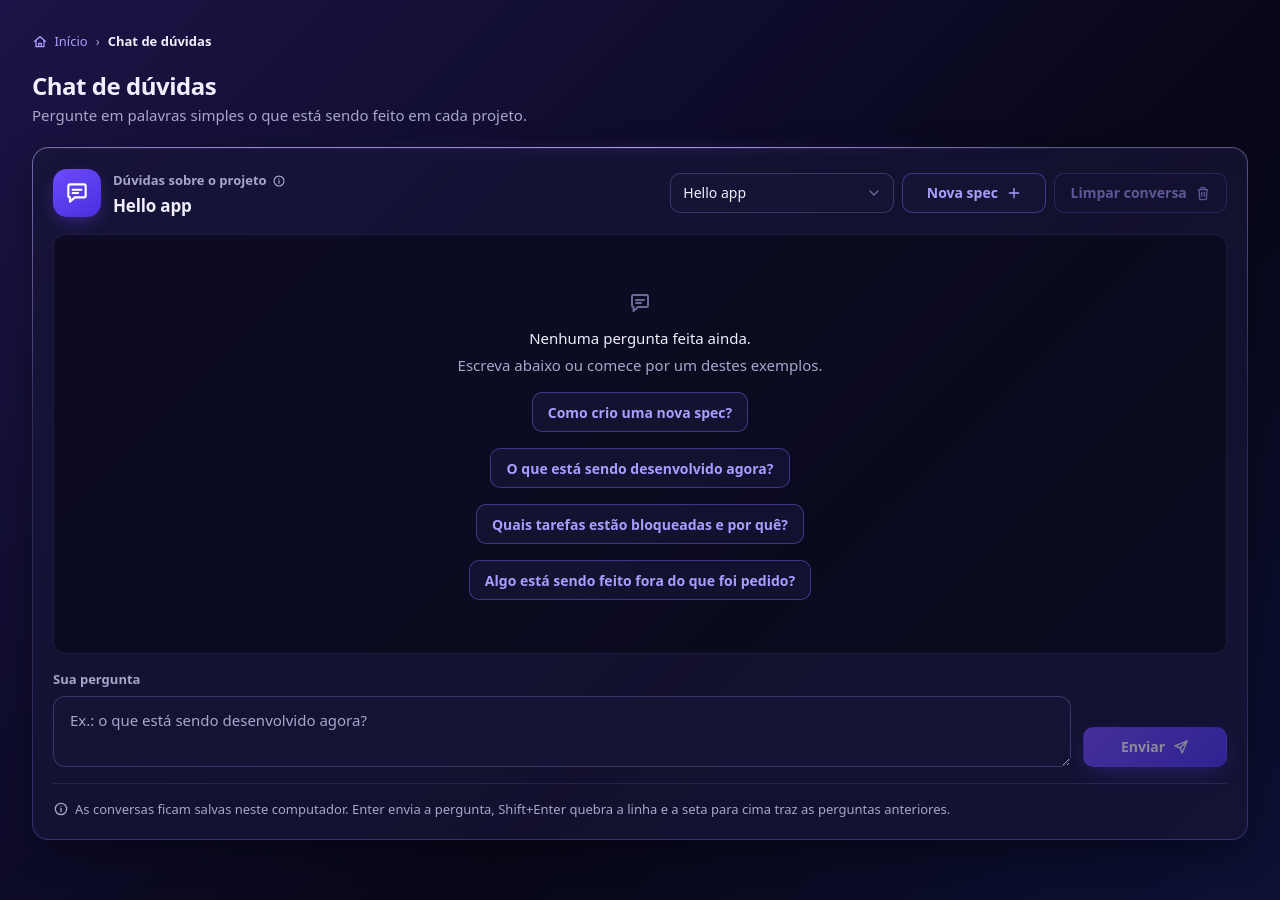
Scenario: ChatPage › keeps the typed text, explains the failure in a popup and sends again on request
Expected: the text "Nenhuma pergunta feita ainda." is shown, [529,327,751,350]
Step 1. Type "oi" into the text box with test id "chat-input" → (562, 731), box [53,696,1071,767]
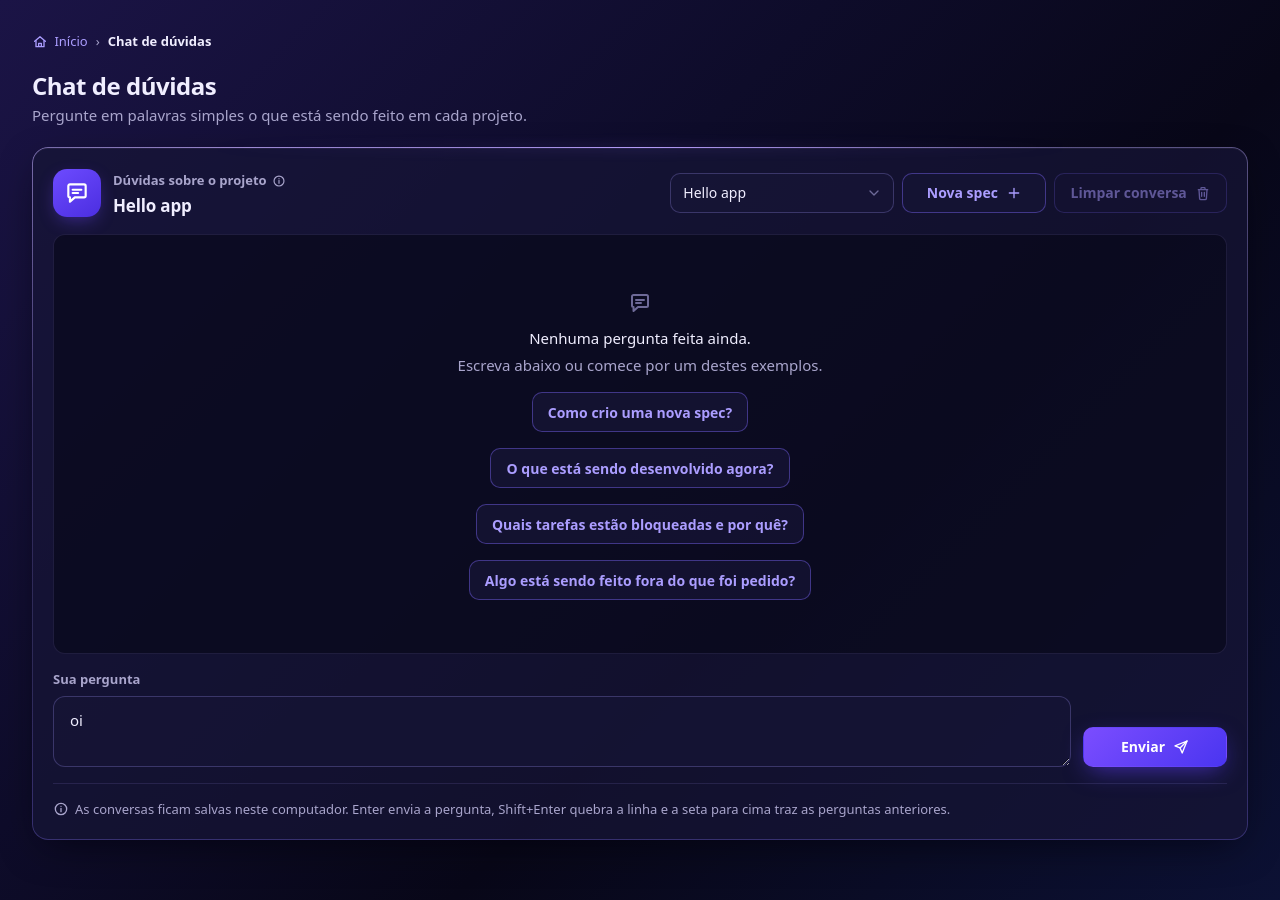
Step 2. Press Enter in the text box with test id "chat-input", box [53,696,1071,767]
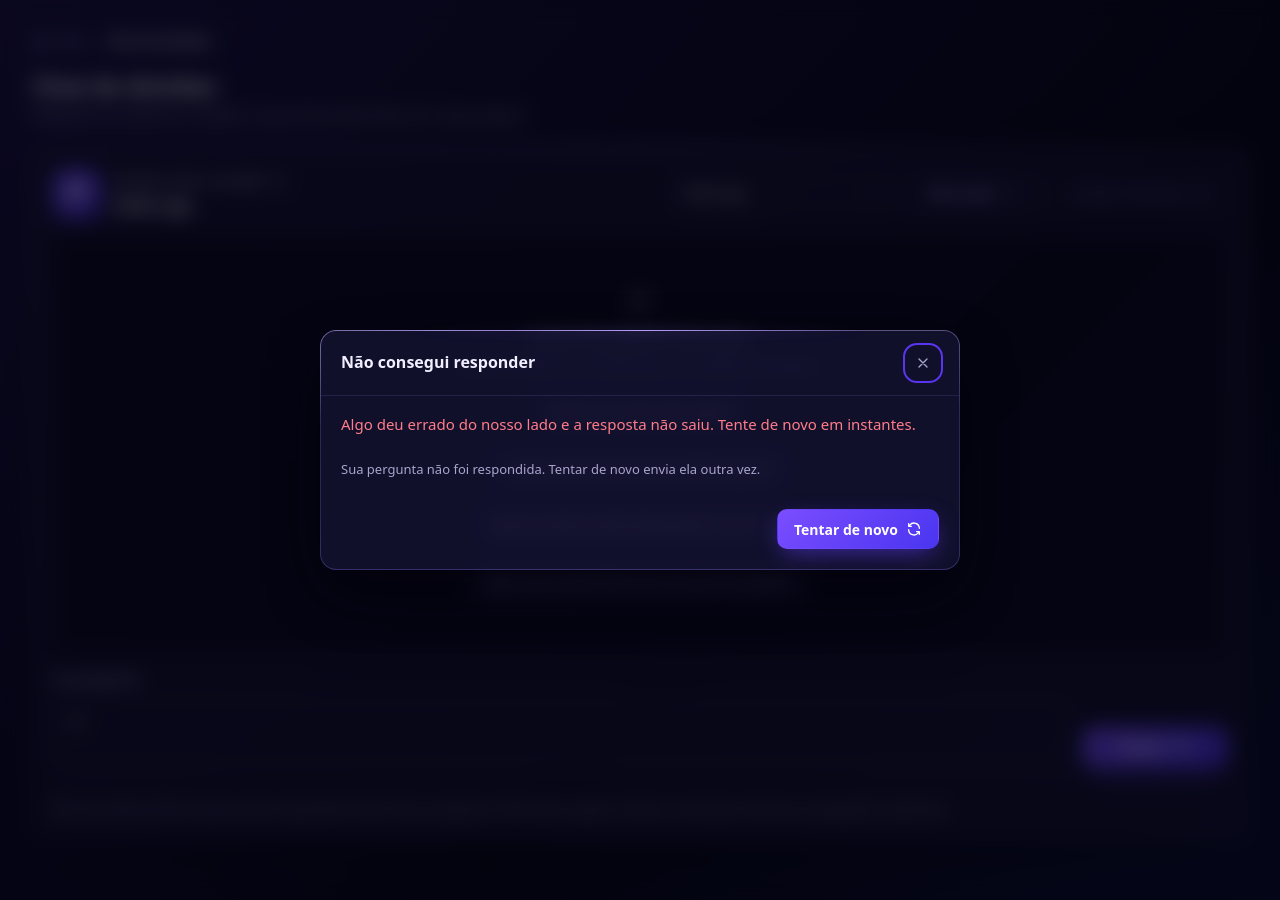
Result: the dialog "Não consegui responder" shows "Algo deu errado do nosso lado" at [341,414,916,434]
Step 3. Click the button "Tentar de novo" → (858, 529), box [777,509,939,549]
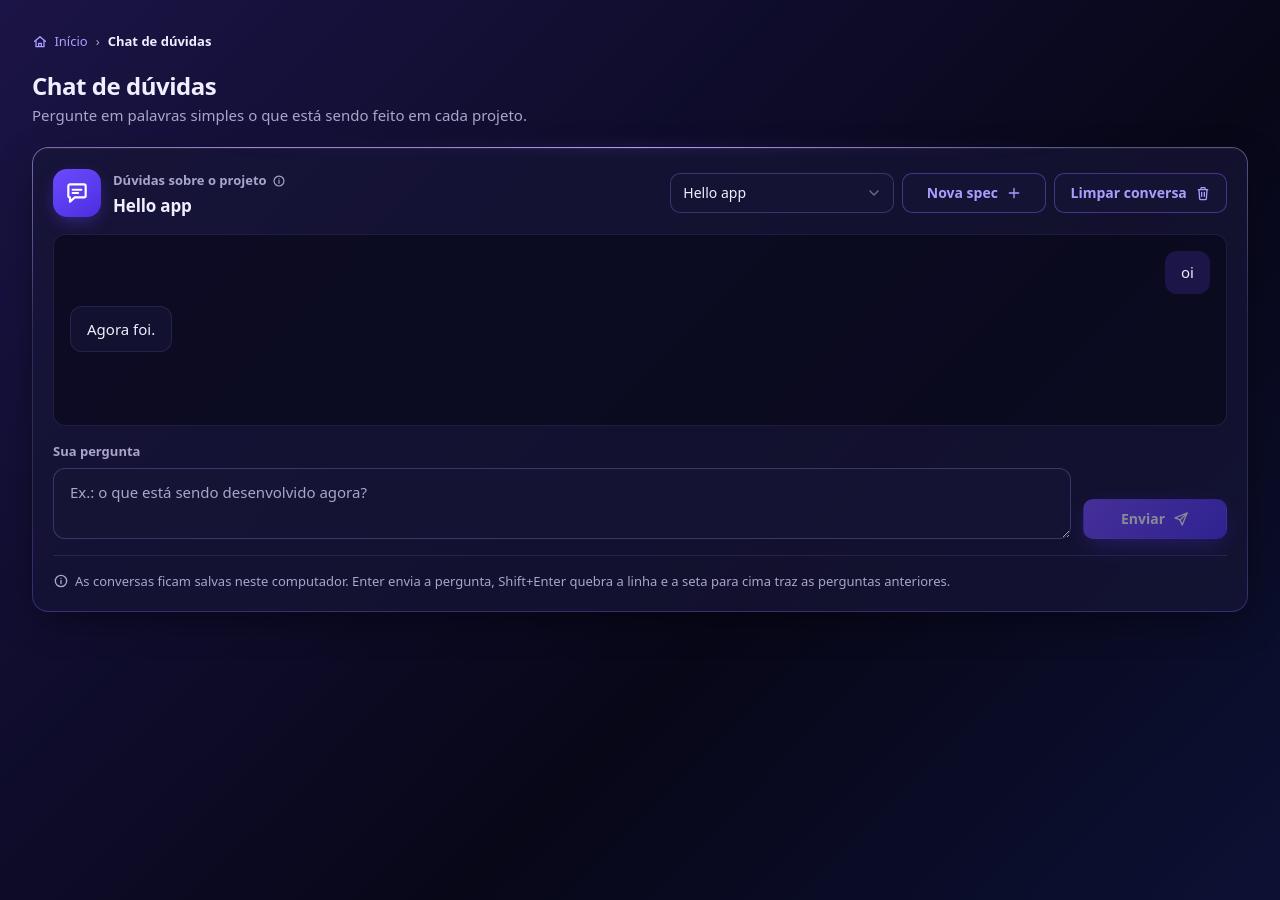
Result: the text "Agora foi." is shown at [87,317,155,341]
Result: the dialog is gone
